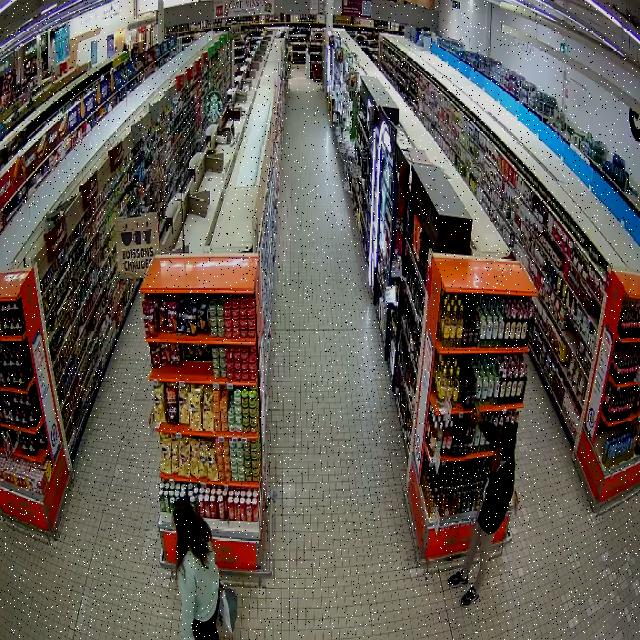article: (464, 418, 476, 444)
hands: (491, 448, 502, 472), (471, 412, 483, 424)
person: (448, 407, 517, 606), (173, 498, 219, 639)
